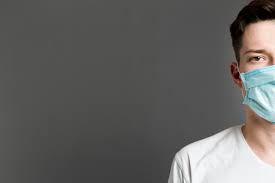surgical: (234, 61, 275, 124)
